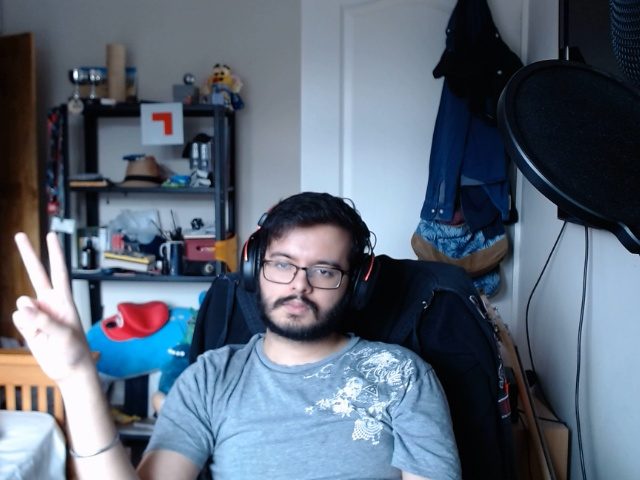Peace: (2, 216, 103, 409)
